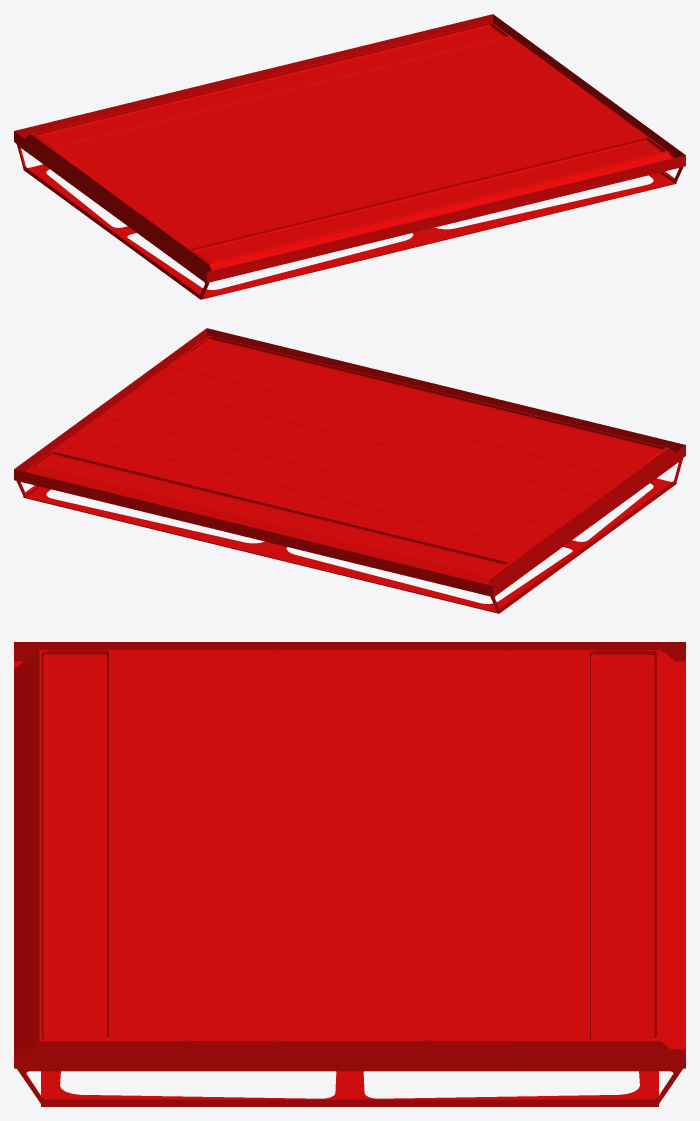
The model's file is Ceiling_11.fbx.
3 views of the same model, one above another, from view 1: azimuth 30°, elevation 25°; view 2: azimuth 150°, elevation 25°; view 3: azimuth 270°, elevation 25° (orthographic). The views are drawn at different scales.
Visible parts, largest first — view 1: L3:polySurface2469; view 2: L3:polySurface2469; view 3: L3:polySurface2469.
Boxes of the visible parts, box(x1,y1,x2,y2) form: L3:polySurface2469: box(14, 14, 685, 299); L3:polySurface2469: box(14, 328, 685, 613); L3:polySurface2469: box(14, 642, 685, 1106).
Bounding box in the file's own units: 598 × 41.04 × 417.
